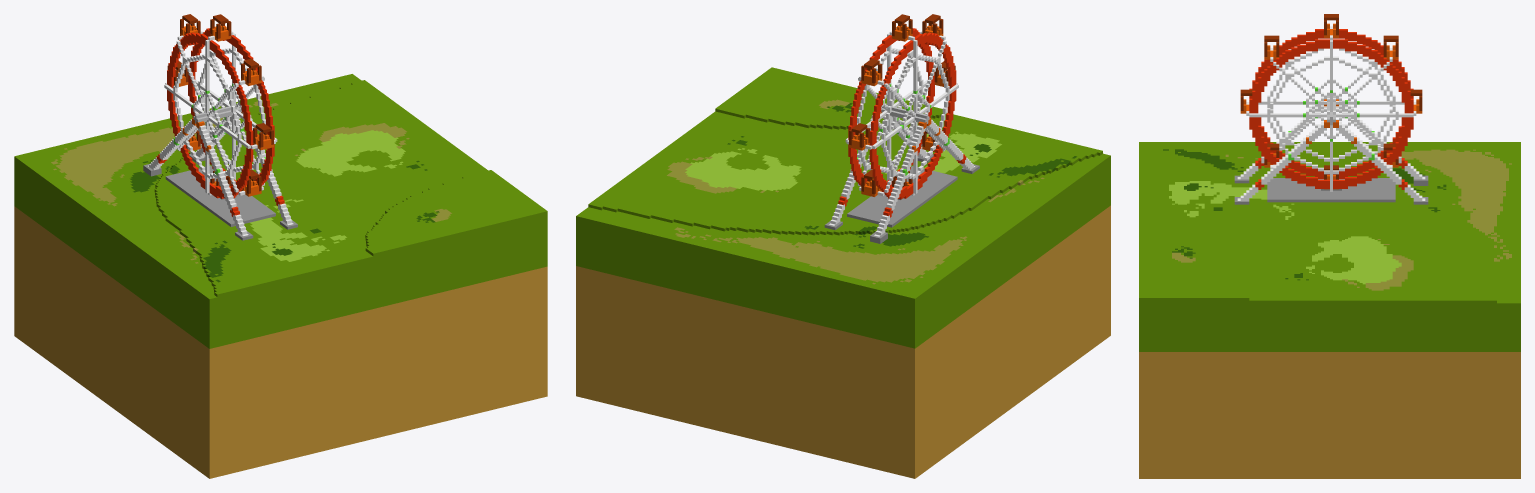
3 views of the same model, side by side, from view 1: azimuth 30°, elevation 25°; view 2: azimuth 150°, elevation 25°; view 3: azimuth 270°, elevation 25° (orthographic). The views are drawn at different scales.
Parts seen in each view (by area): view 1: 1A; view 2: 1A; view 3: 1A.
Part boxes in pixels (x1,y1,x2,y2): 1A: (14, 14, 547, 478); 1A: (576, 14, 1110, 478); 1A: (1139, 14, 1520, 478).
Size of the model in its own units: 12.8 by 13.1 by 12.8.
1 material, 1 textured.
